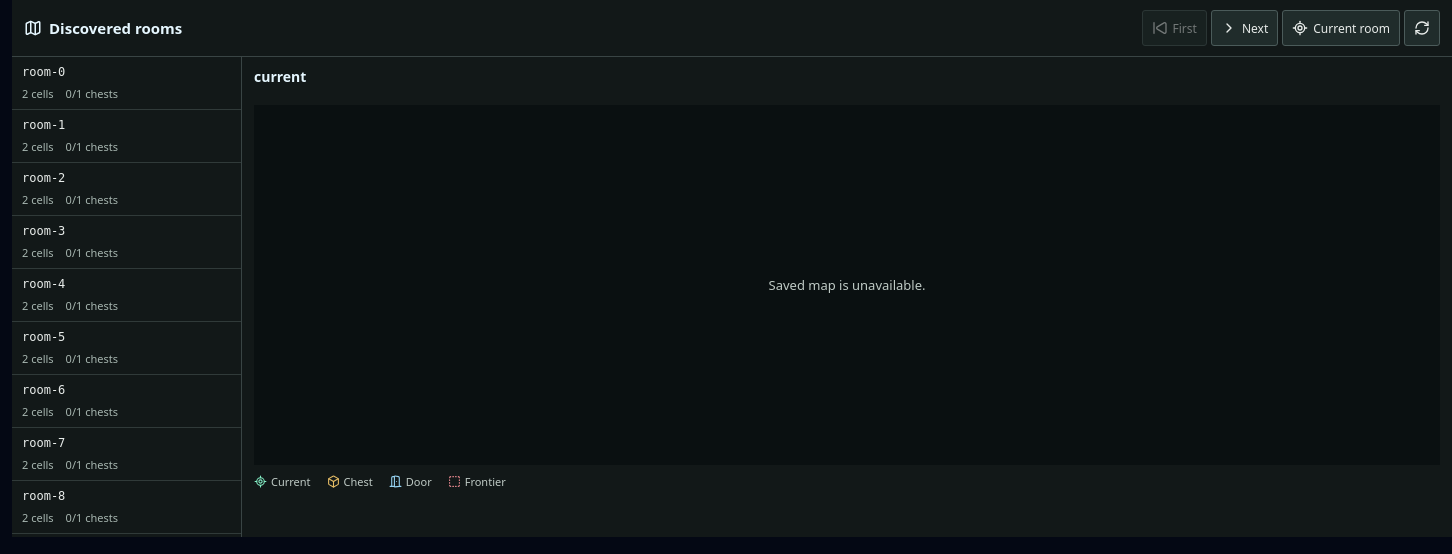
Scenario: exposes unavailable and unknown states without rendering raw errors or making up cells
Expected: the message "Saved map is unavailable." is shown, [768,276,926,294]
Click the button named "Show saved room room-0" at (126, 84), box [12,57,241,110]
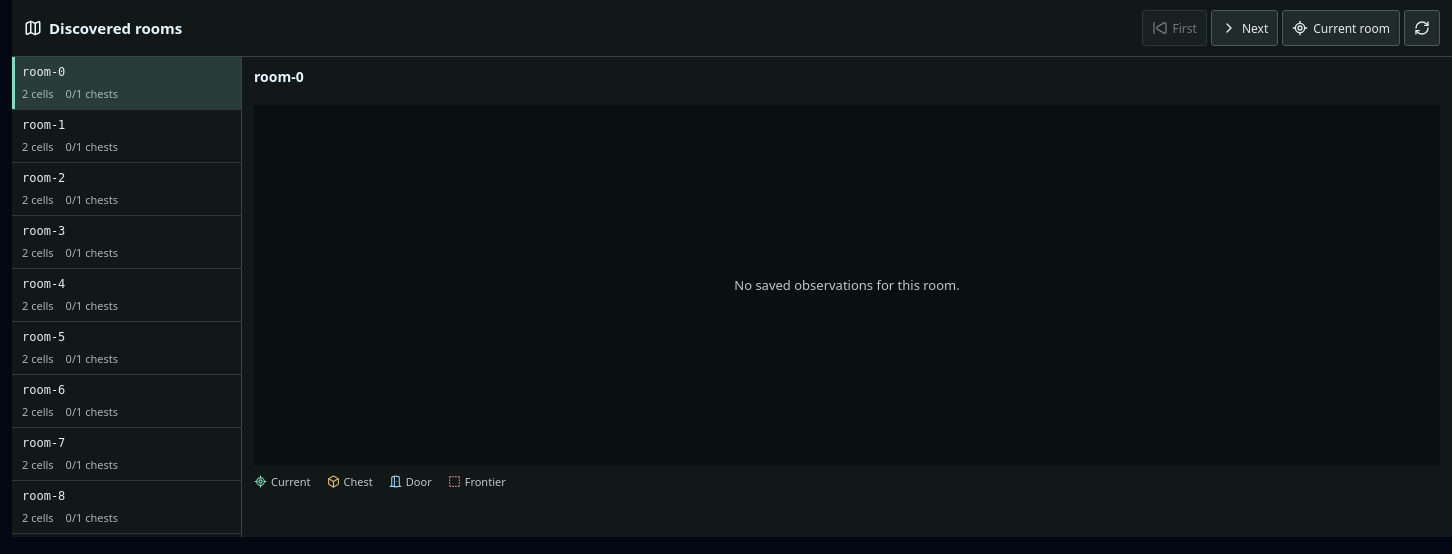
Result: the text "No saved observations for this room." is shown at [734,276,960,294]
